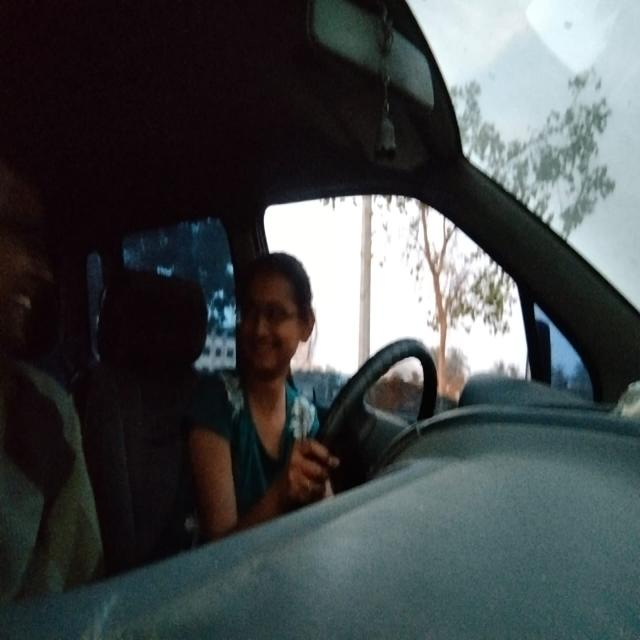LeftRight: (222, 244, 322, 388)
person: (0, 152, 61, 368)
talking: (9, 284, 40, 327), (243, 343, 283, 366)
